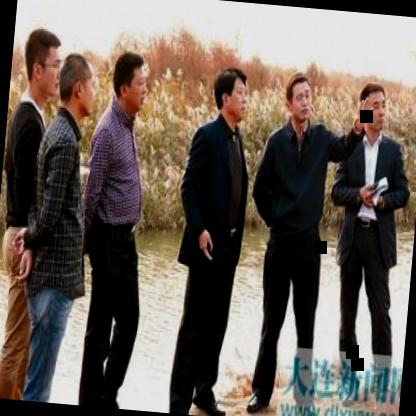head: (18, 21, 68, 107), (54, 50, 102, 126), (108, 48, 152, 119), (210, 65, 251, 127), (354, 74, 391, 140), (281, 68, 317, 132)
